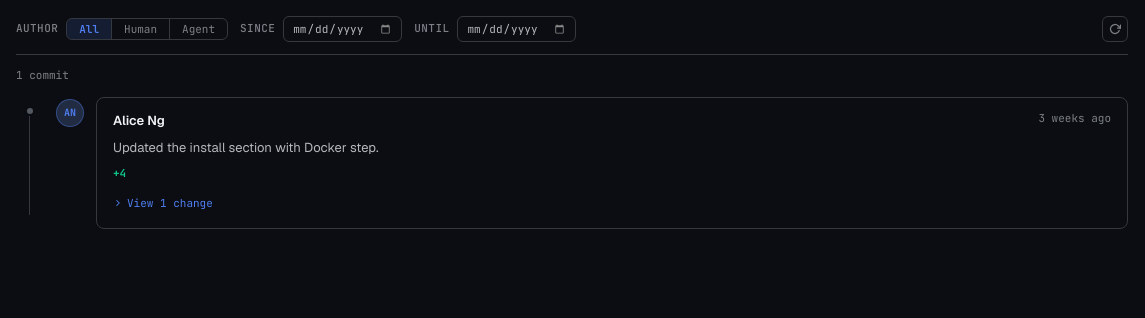
it: HistoryTimeline › should expand an entry and show ChangeDiff when the toggle button is clicked
This screenshot has width=1145, height=318.
Expected: the text "Updated the install section with Docker step." is shown, [113, 139, 379, 156]
Click the button "View 1 change": coordinates (163, 203) [113, 196, 213, 210]
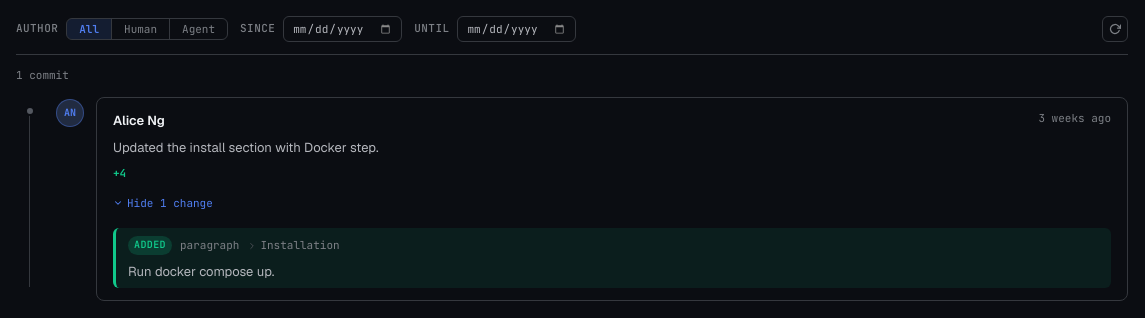
Result: the button "Hide 1 change" is expanded at [113, 196, 213, 210]
Result: the text "Run docker compose up." is shown at [128, 263, 274, 280]
